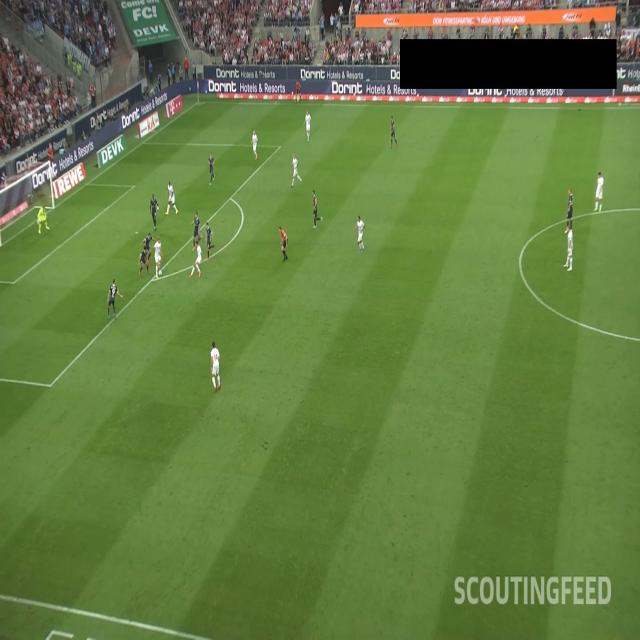ball: (158, 269, 162, 276)
